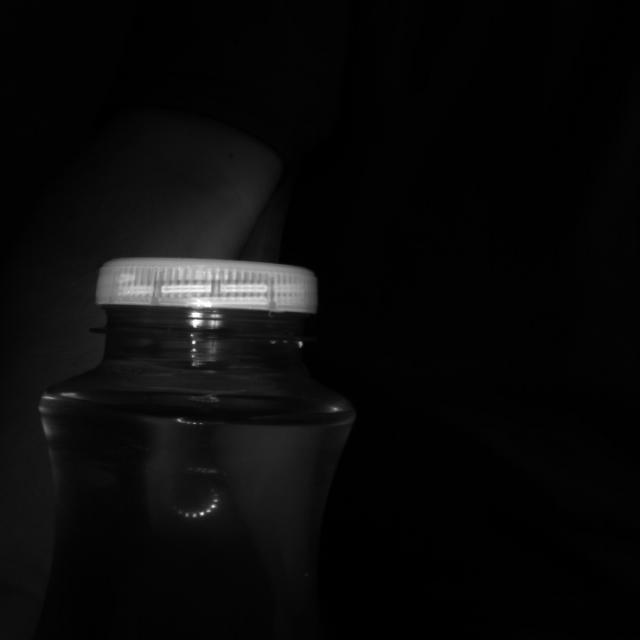Not Good: (96, 256, 322, 336)
